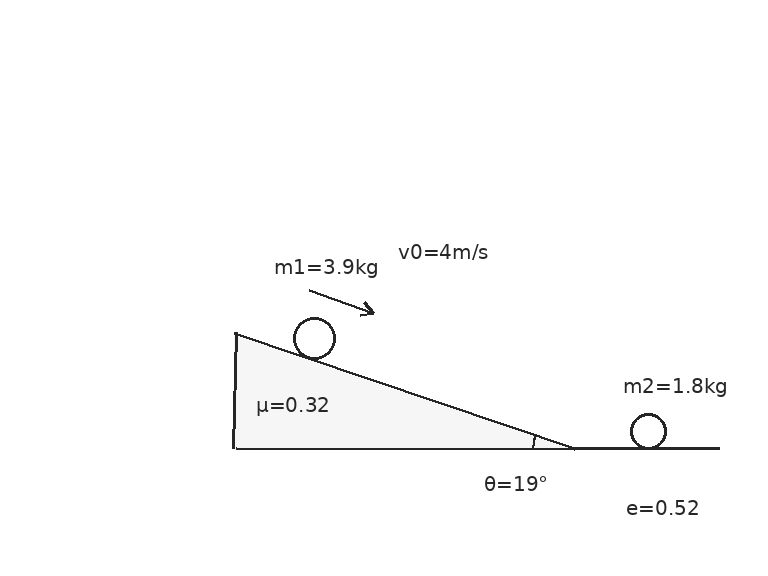ball: (291, 315, 337, 361), (628, 411, 668, 451)
ramp: (232, 330, 575, 451)
